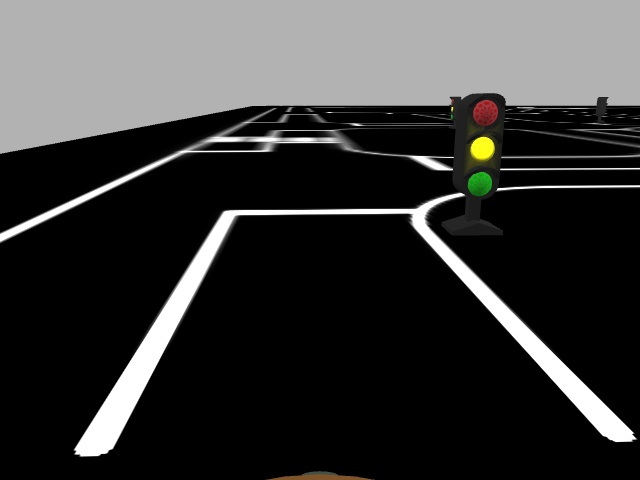yellow_light: (456, 93, 504, 199)
